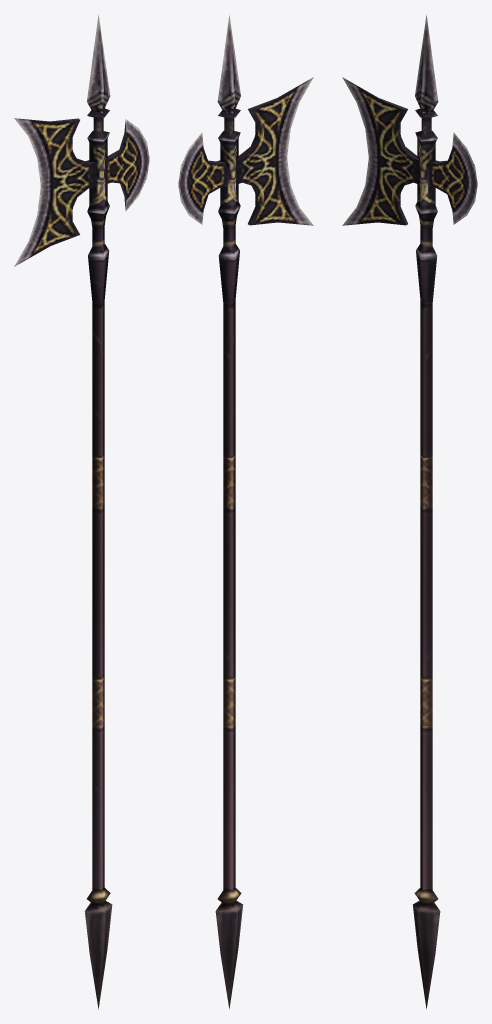
File: Polearm20.FBX
3 views of the same model, side by side, from view 1: azimuth 30°, elevation 25°; view 2: azimuth 210°, elevation 25°; view 3: azimuth 330°, elevation 25° (orthographic).
Visible parts, largest first — view 1: Polearm20; view 2: Polearm20; view 3: Polearm20.
Part boxes in pixels (left/top/right/bottom): Polearm20: left=14, top=15, right=149, bottom=1009; Polearm20: left=178, top=15, right=313, bottom=1008; Polearm20: left=342, top=15, right=477, bottom=1008.
Size of the model in its own units: 37.66 by 264 by 7.41.
